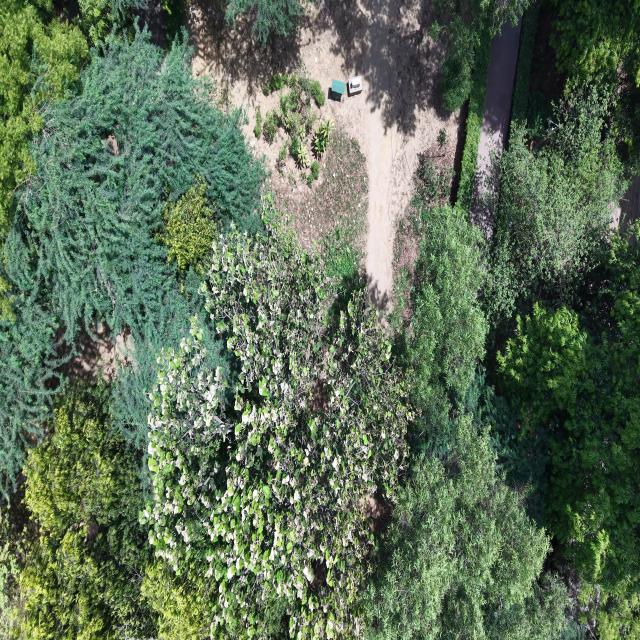DRY_AREA: (186, 0, 458, 306), (477, 19, 521, 192), (478, 20, 521, 170), (61, 323, 134, 381), (530, 2, 567, 114), (530, 0, 567, 102), (134, 0, 166, 48), (614, 176, 639, 228)
VEGETATION_TREE: (0, 0, 639, 639), (4, 33, 410, 637), (5, 33, 406, 637), (20, 206, 565, 638), (11, 220, 411, 638), (0, 33, 262, 637), (0, 32, 263, 486), (140, 198, 410, 637), (143, 225, 411, 637), (480, 3, 639, 638), (482, 25, 639, 639), (362, 200, 567, 639), (142, 232, 349, 635), (5, 33, 262, 331), (496, 234, 639, 638), (492, 279, 639, 637), (363, 412, 567, 639), (498, 282, 639, 583), (19, 385, 155, 639), (0, 0, 135, 241), (485, 89, 623, 323), (513, 0, 639, 175), (394, 200, 487, 428), (0, 0, 88, 240), (551, 0, 639, 172), (0, 291, 67, 498), (280, 127, 368, 279), (430, 0, 529, 110), (311, 131, 368, 282), (262, 69, 333, 186), (553, 0, 639, 82), (455, 28, 492, 210), (156, 176, 218, 274), (141, 563, 217, 639), (399, 129, 454, 234), (0, 496, 31, 638), (264, 73, 323, 143), (576, 579, 639, 639), (441, 14, 479, 111), (225, 0, 306, 45), (278, 78, 317, 168), (512, 3, 540, 124), (71, 0, 144, 46), (433, 0, 528, 32), (613, 80, 639, 174), (280, 73, 323, 128), (263, 70, 325, 107), (519, 91, 561, 140), (414, 154, 453, 205), (162, 0, 185, 47), (314, 118, 334, 158), (291, 137, 310, 169), (263, 74, 289, 95), (289, 136, 305, 168), (263, 110, 278, 144), (308, 80, 326, 107), (276, 140, 290, 174), (307, 160, 319, 188), (307, 160, 319, 187), (254, 106, 262, 138), (437, 129, 447, 148), (310, 161, 319, 179), (306, 172, 313, 188)
